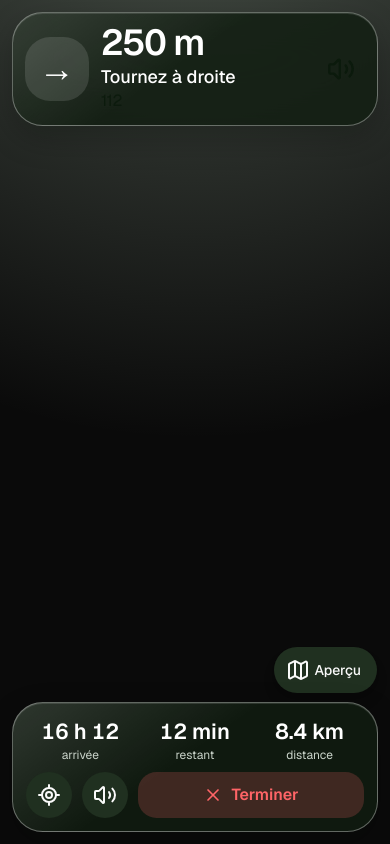
Test case: NavigationOverlay (FR-023, FR-024, FR-042, NFR-006) › asks for confirmation before ending, and lets the rider back out (FR-042)
The width and height of the screenshot is (390, 844).
Click the button with aria-label "Terminer la navigation". click: (251, 795)
box: [137,771,365,819]
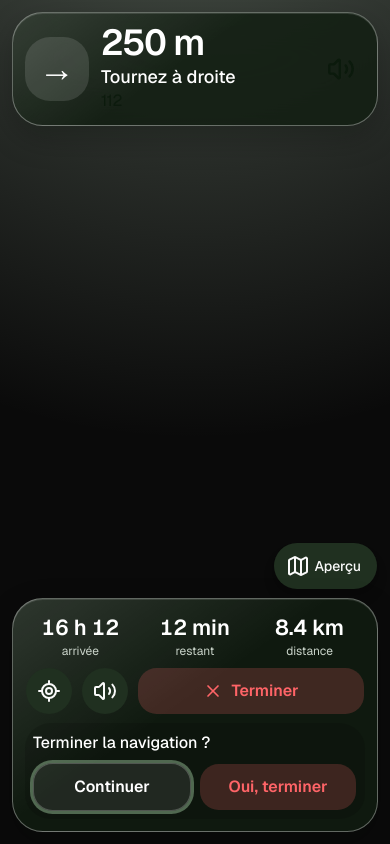
Expected: the dialog "Terminer la navigation" is shown, [25,723,365,819]
Click the button "Continuer". click: (112, 787)
box: [33,763,191,811]
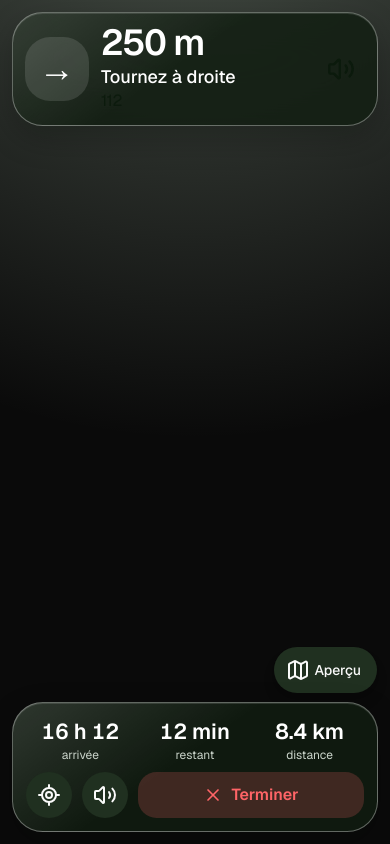
Expected: the dialog is gone
